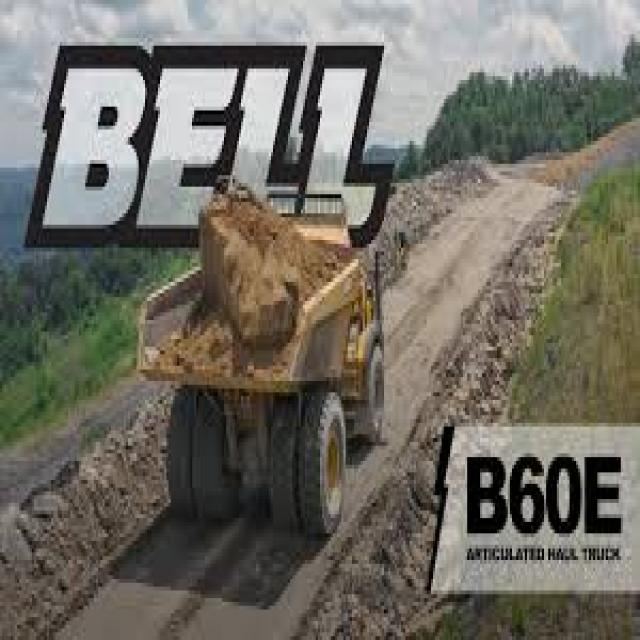dump_truck: (132, 183, 420, 545)
